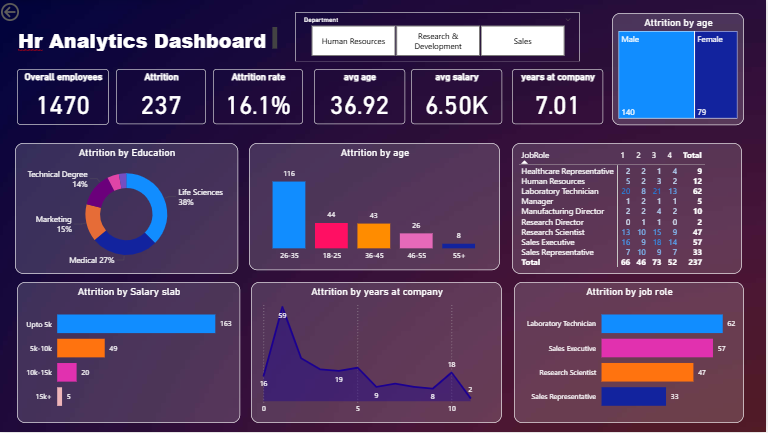

The dashboard page shown, as its layout file describes it:
{"tool":"powerbi","page":{"name":"Page 1","canvas":[1280,720],"ordinal":0},"visuals":[{"type":"card","title":"Overall employees","fields":{"Values":["CountNonNull(HR_Analytics (1).EmpID)"]},"box":[31.7,115,153.3,93.3],"z":0},{"type":"card","title":"Attrition","fields":{"Values":["Sum(HR_Analytics (1).attritioncount)"]},"box":[196.7,115,150,91.7],"z":1000},{"type":"card","title":"Attrition rate","fields":{"Values":["HR_Analytics (1).attritionrate"]},"box":[358.3,115,150,91.7],"z":2000},{"type":"card","title":"avg salary","fields":{"Values":["Avg(HR_Analytics (1).MonthlyIncome)"]},"box":[688.3,115,151.7,91.7],"z":3000},{"type":"actionButton","box":[0,0,100,40],"z":4000},{"type":"card","title":"years at company","fields":{"Values":["Avg(HR_Analytics (1).YearsAtCompany)"]},"box":[856.7,115,151.7,91.7],"z":5000},{"type":"card","title":"avg age","fields":{"Values":["Avg(HR_Analytics (1).Age)"]},"box":[526.7,115,151.7,91.7],"z":6000},{"type":"donutChart","title":"Attrition by Education","fields":{"Category":["HR_Analytics (1).EducationField"],"Y":["Sum(HR_Analytics (1).attritioncount)"]},"box":[28.3,238.3,371.7,218.3],"z":7000},{"type":"columnChart","title":"Attrition by age","fields":{"Category":["HR_Analytics (1).AgeGroup"],"Y":["Sum(HR_Analytics (1).attritioncount)"]},"box":[418.3,238.3,418.3,211.7],"z":8000},{"type":"pivotTable","fields":{"Rows":["HR_Analytics (1).JobRole"],"Columns":["HR_Analytics (1).JobSatisfaction"],"Values":["Sum(HR_Analytics (1).attritioncount)"]},"box":[856.7,238.3,383.3,218.3],"z":9000},{"type":"barChart","title":"Attrition by Salary slab ","fields":{"Category":["HR_Analytics (1).SalarySlab"],"Y":["Sum(HR_Analytics (1).attritioncount)"]},"box":[31.7,470,371.7,235],"z":10000},{"type":"barChart","title":"Attrition by job role","fields":{"Category":["HR_Analytics (1).JobRole"],"Y":["Sum(HR_Analytics (1).attritioncount)"]},"box":[860,470,383.3,235],"z":11000},{"type":"areaChart","title":"Attrition by years at company","fields":{"Category":["HR_Analytics (1).YearsAtCompany"],"Y":["Sum(HR_Analytics (1).attritioncount)"]},"box":[421.7,470,418.3,235],"z":12000},{"type":"treemap","title":"Attrition by age","fields":{"Group":["HR_Analytics (1).Gender"],"Values":["Sum(HR_Analytics (1).attritioncount)"]},"box":[1023.3,21.7,220,186.7],"z":13000},{"type":"slicer","fields":{"Values":["HR_Analytics (1).Department"]},"box":[495,20,475,81.7],"z":14000},{"type":"textbox","box":[28.3,40,441.7,50],"z":15000}]}

Visuals, with their boxes in screenshot pixels (x1, y1, x2, y2), scaled from the page's 1280x720 canvas onto the 768x433 screenshot:
"Overall employees" card: region(19, 69, 111, 125)
"Attrition" card: region(118, 69, 208, 124)
"Attrition rate" card: region(215, 69, 305, 124)
"avg salary" card: region(413, 69, 504, 124)
actionButton: region(0, 0, 60, 24)
"years at company" card: region(514, 69, 605, 124)
"avg age" card: region(316, 69, 407, 124)
"Attrition by Education" donutChart: region(17, 143, 240, 275)
"Attrition by age" columnChart: region(251, 143, 502, 271)
pivotTable - HR_Analytics (1).JobRole x HR_Analytics (1).JobSatisfaction: region(514, 143, 744, 275)
"Attrition by Salary slab " barChart: region(19, 283, 242, 424)
"Attrition by job role" barChart: region(516, 283, 746, 424)
"Attrition by years at company" areaChart: region(253, 283, 504, 424)
"Attrition by age" treemap: region(614, 13, 746, 125)
slicer - HR_Analytics (1).Department: region(297, 12, 582, 61)
textbox: region(17, 24, 282, 54)
